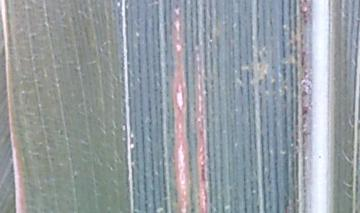tarspot: (302, 105, 308, 115), (300, 90, 308, 97), (303, 19, 309, 25)
